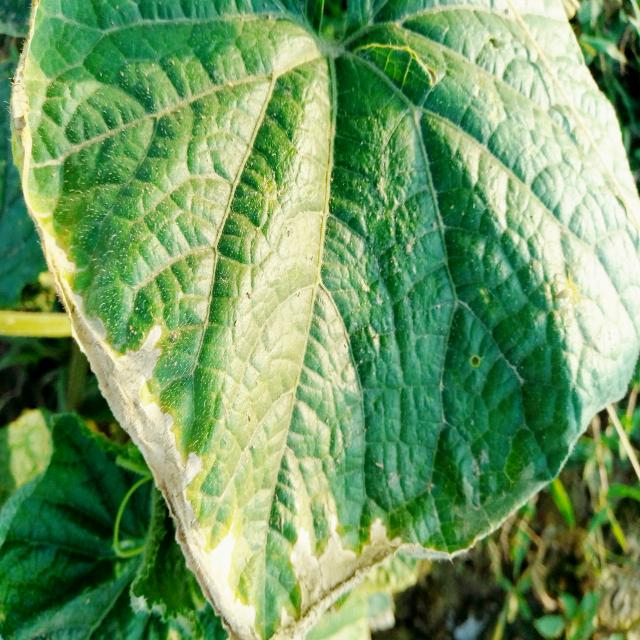Gummy-Stem-Blight: (7, 0, 409, 640)
